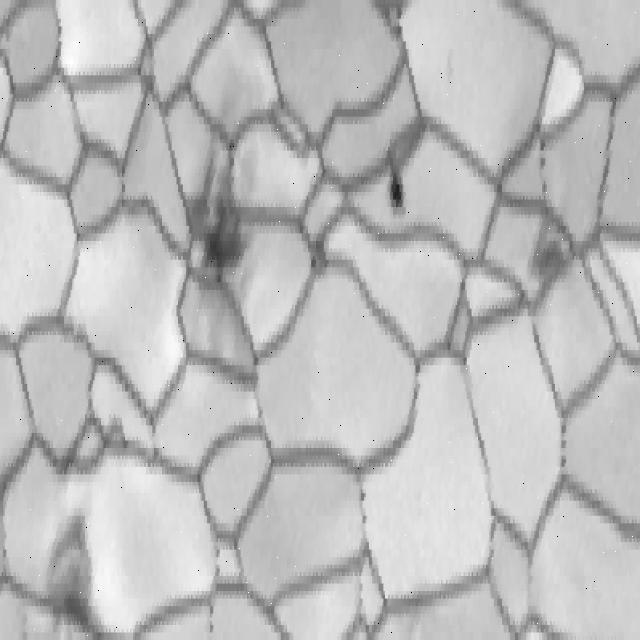good_void: (182, 125, 274, 379), (48, 509, 101, 630), (528, 209, 572, 305), (383, 155, 408, 235), (538, 156, 548, 173), (540, 178, 548, 198), (537, 142, 546, 155)
